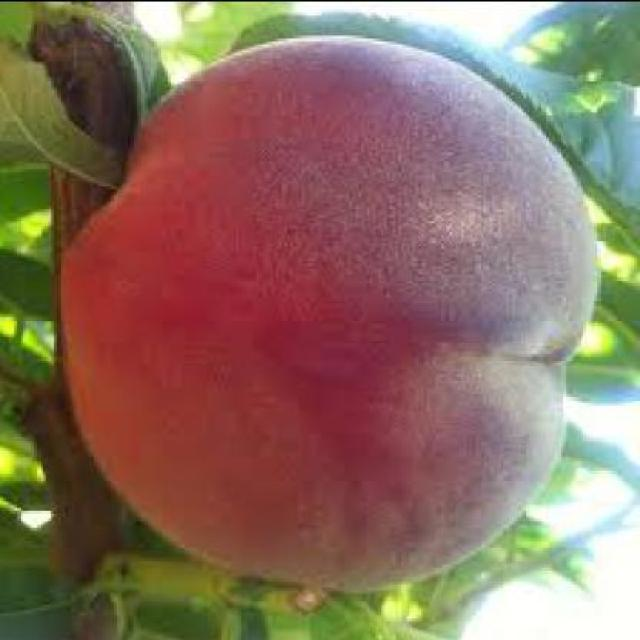BIODEGRADABLE: (65, 37, 598, 591)
